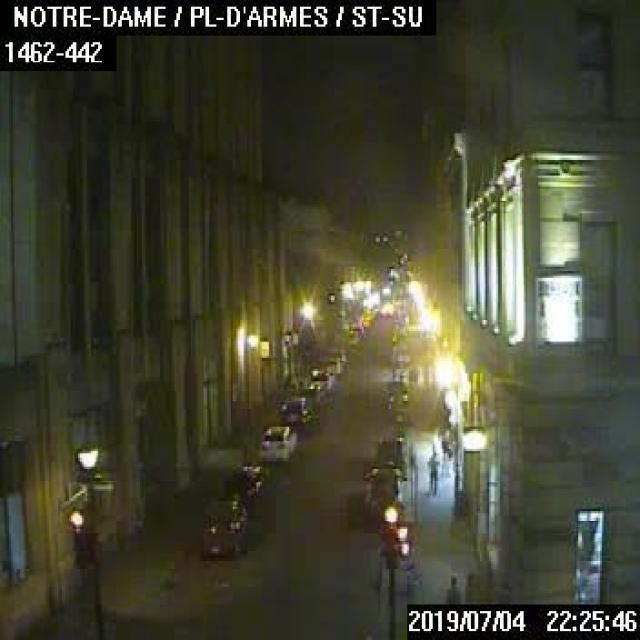pedestrian: (426, 446, 438, 496), (444, 573, 458, 600)
vehicle: (196, 497, 261, 558), (362, 460, 402, 514), (218, 465, 268, 507), (257, 424, 298, 461), (278, 394, 310, 428)
